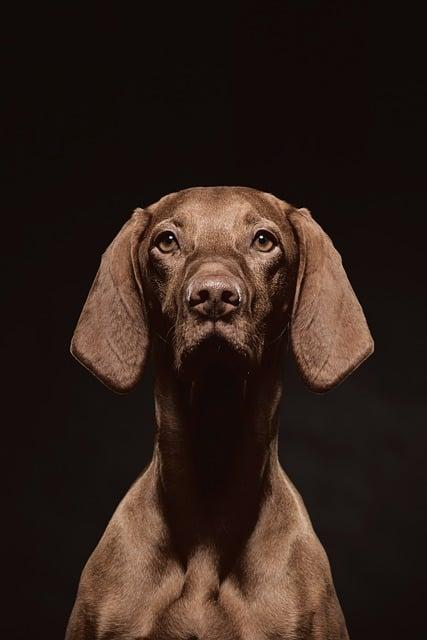Non_Gorille: (57, 144, 414, 640)
